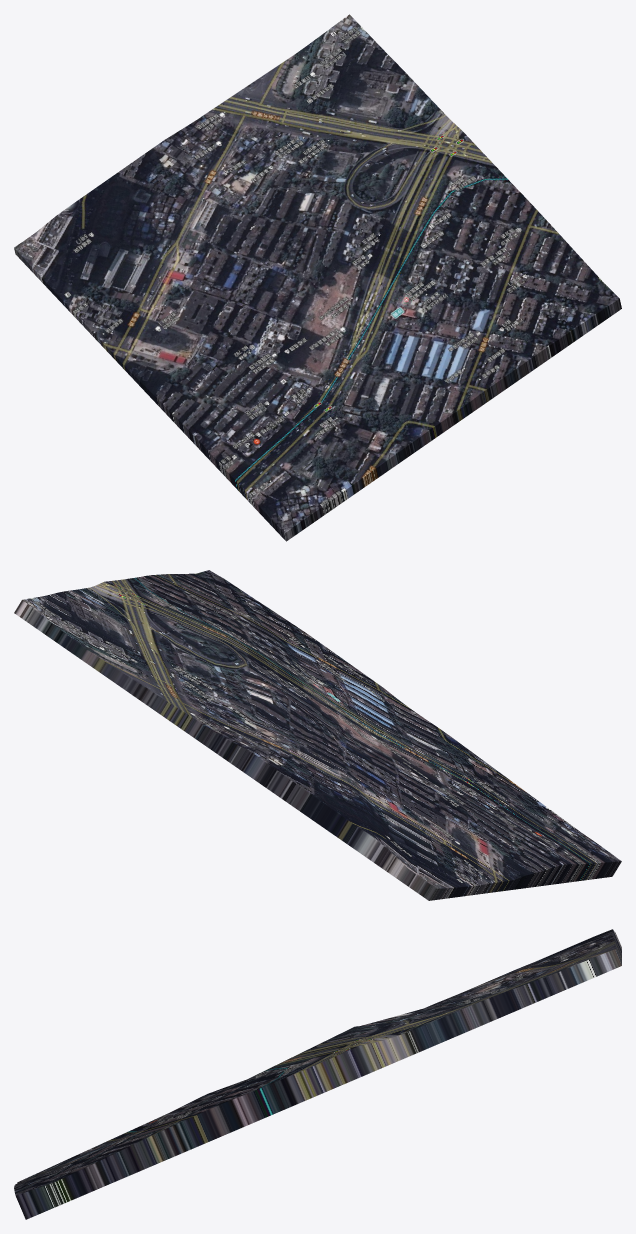
The picture shows the model from 3 angles, top to bottom: view 1: azimuth 30°, elevation 25°; view 2: azimuth 150°, elevation 25°; view 3: azimuth 270°, elevation 25°; orthographic projection. The views are drawn at different scales.
Visible parts, largest first — view 1: 0_17_11; view 2: 0_17_11; view 3: 0_17_11.
Boxes of the visible parts, x1,y1,x2,y2 form: 0_17_11: [14, 14, 621, 541]; 0_17_11: [14, 570, 621, 900]; 0_17_11: [14, 929, 621, 1219].
Size of the model in its own units: 598 by 442 by 553.
1 material, 1 textured.
